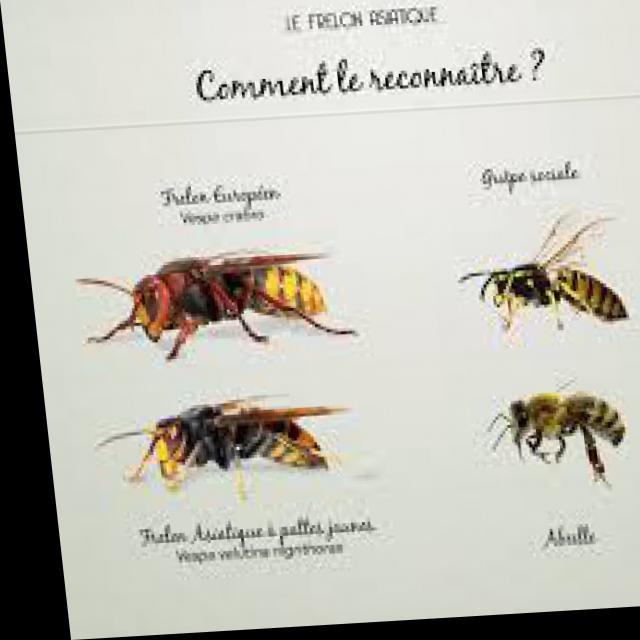Vespa Velutina: (71, 390, 351, 508)
